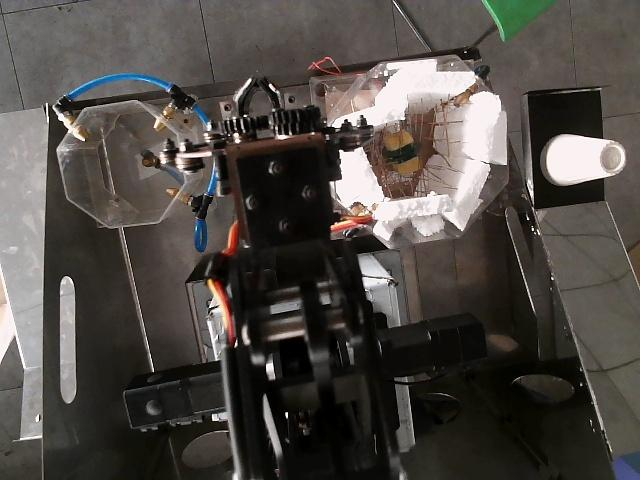cup: (541, 134, 625, 186)
